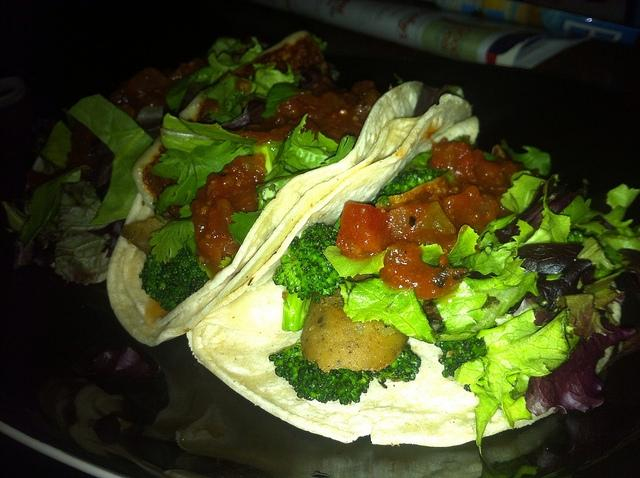broccoli: (268, 339, 421, 405), (272, 223, 350, 331), (139, 245, 210, 312), (369, 167, 445, 207), (434, 336, 488, 378)
lettuce: (454, 308, 579, 457), (66, 94, 154, 226), (150, 142, 251, 216), (434, 272, 539, 341), (202, 62, 312, 126), (14, 168, 82, 267), (338, 278, 437, 344), (273, 113, 339, 174), (522, 196, 570, 247), (37, 120, 85, 170), (479, 219, 538, 257), (512, 243, 584, 274), (500, 170, 547, 216), (150, 219, 196, 265), (322, 246, 386, 278), (501, 139, 552, 177), (577, 236, 615, 270), (595, 229, 640, 252), (600, 205, 634, 232), (207, 52, 245, 74), (590, 214, 616, 230)
potato: (300, 273, 410, 373), (120, 216, 174, 255)
tomato: (190, 153, 268, 280), (379, 240, 468, 298), (336, 200, 394, 260), (441, 185, 499, 236), (199, 196, 241, 266), (432, 138, 481, 186), (122, 66, 173, 102), (412, 201, 456, 237), (289, 36, 323, 70), (474, 158, 509, 189), (70, 123, 98, 151), (328, 112, 354, 126)
